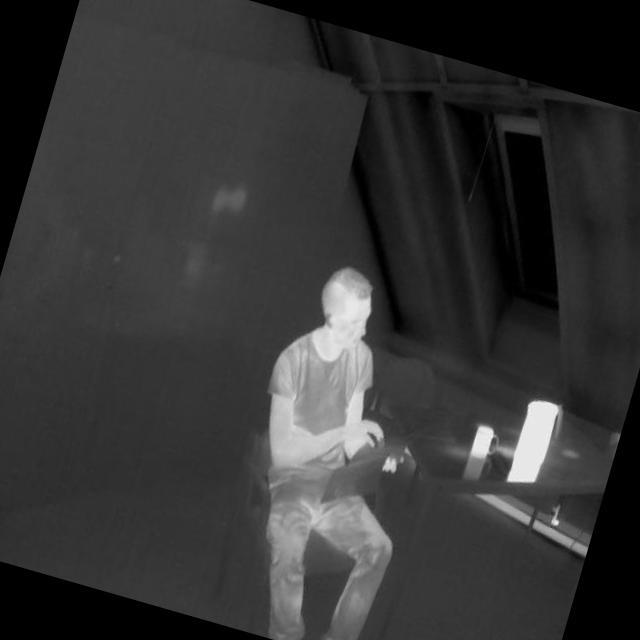person: (199, 249, 465, 640)
